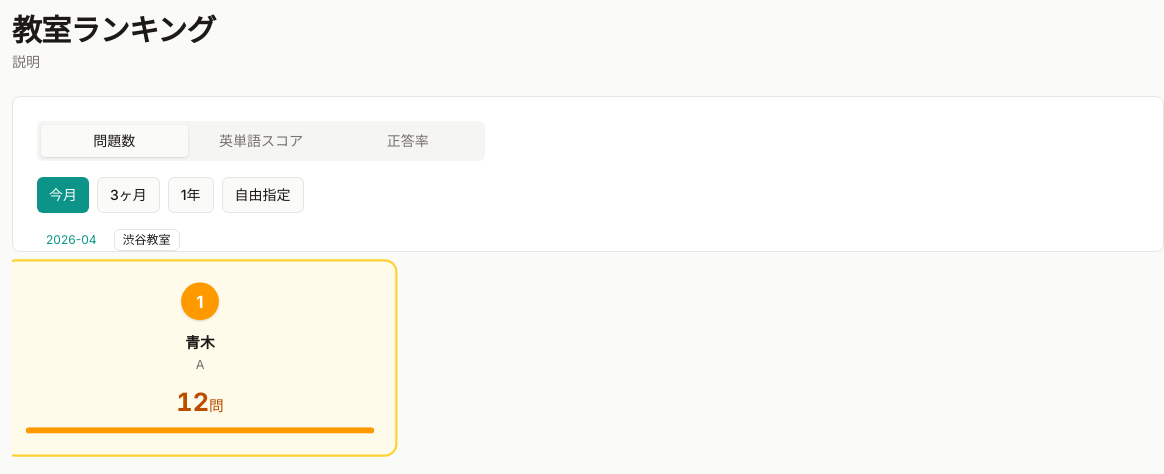
Scenario: RankingPageClient › 3つの指標タブを切り替えて表示できる
expect the text "青木" is shown: met, box [185,333,215,351]
Click the button "英単語スコア".
click(261, 141)  # box [188,125,334,157]
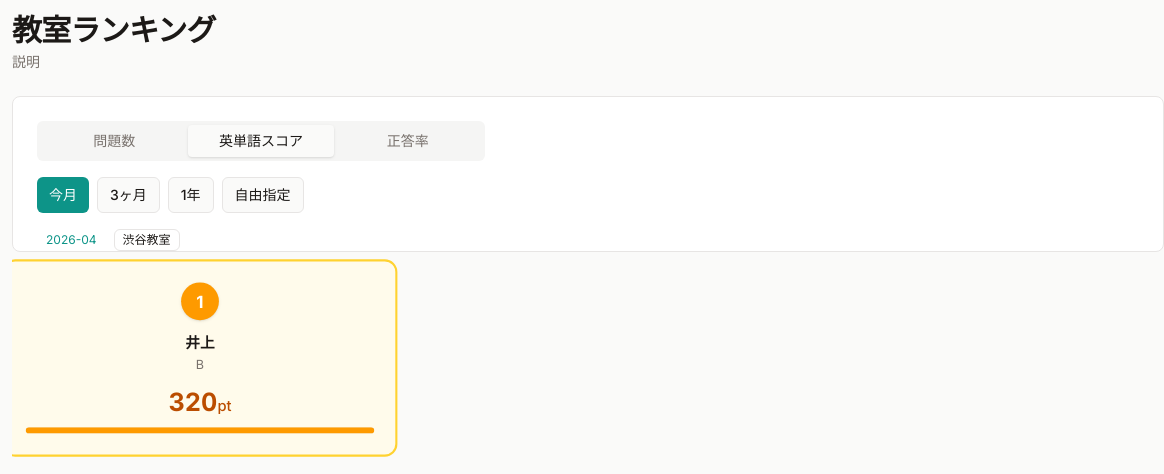
expect the text "井上" is shown: met, box [185,333,215,351]
Click the button "正答率".
click(408, 141)  # box [334,125,481,157]
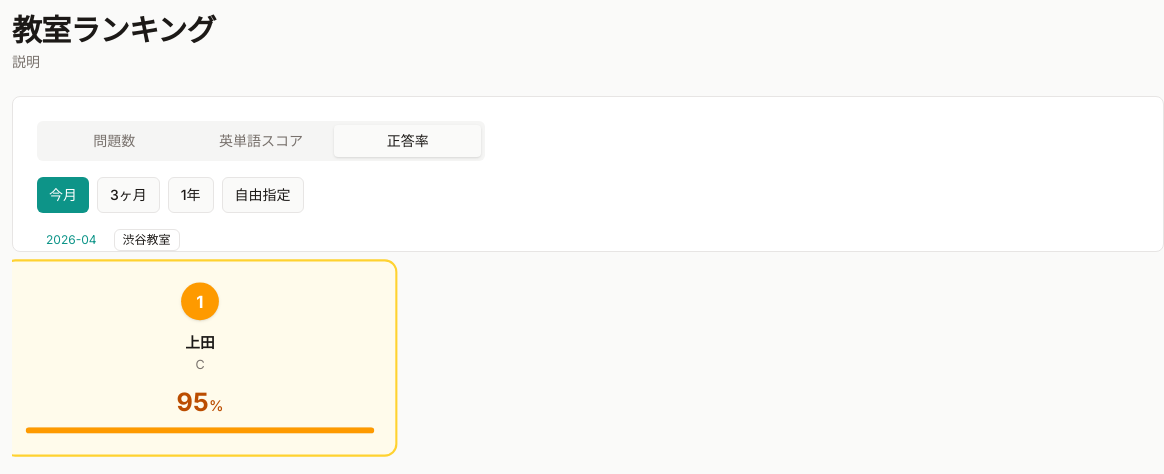
expect the text "上田" is shown: met, box [185,333,215,351]
